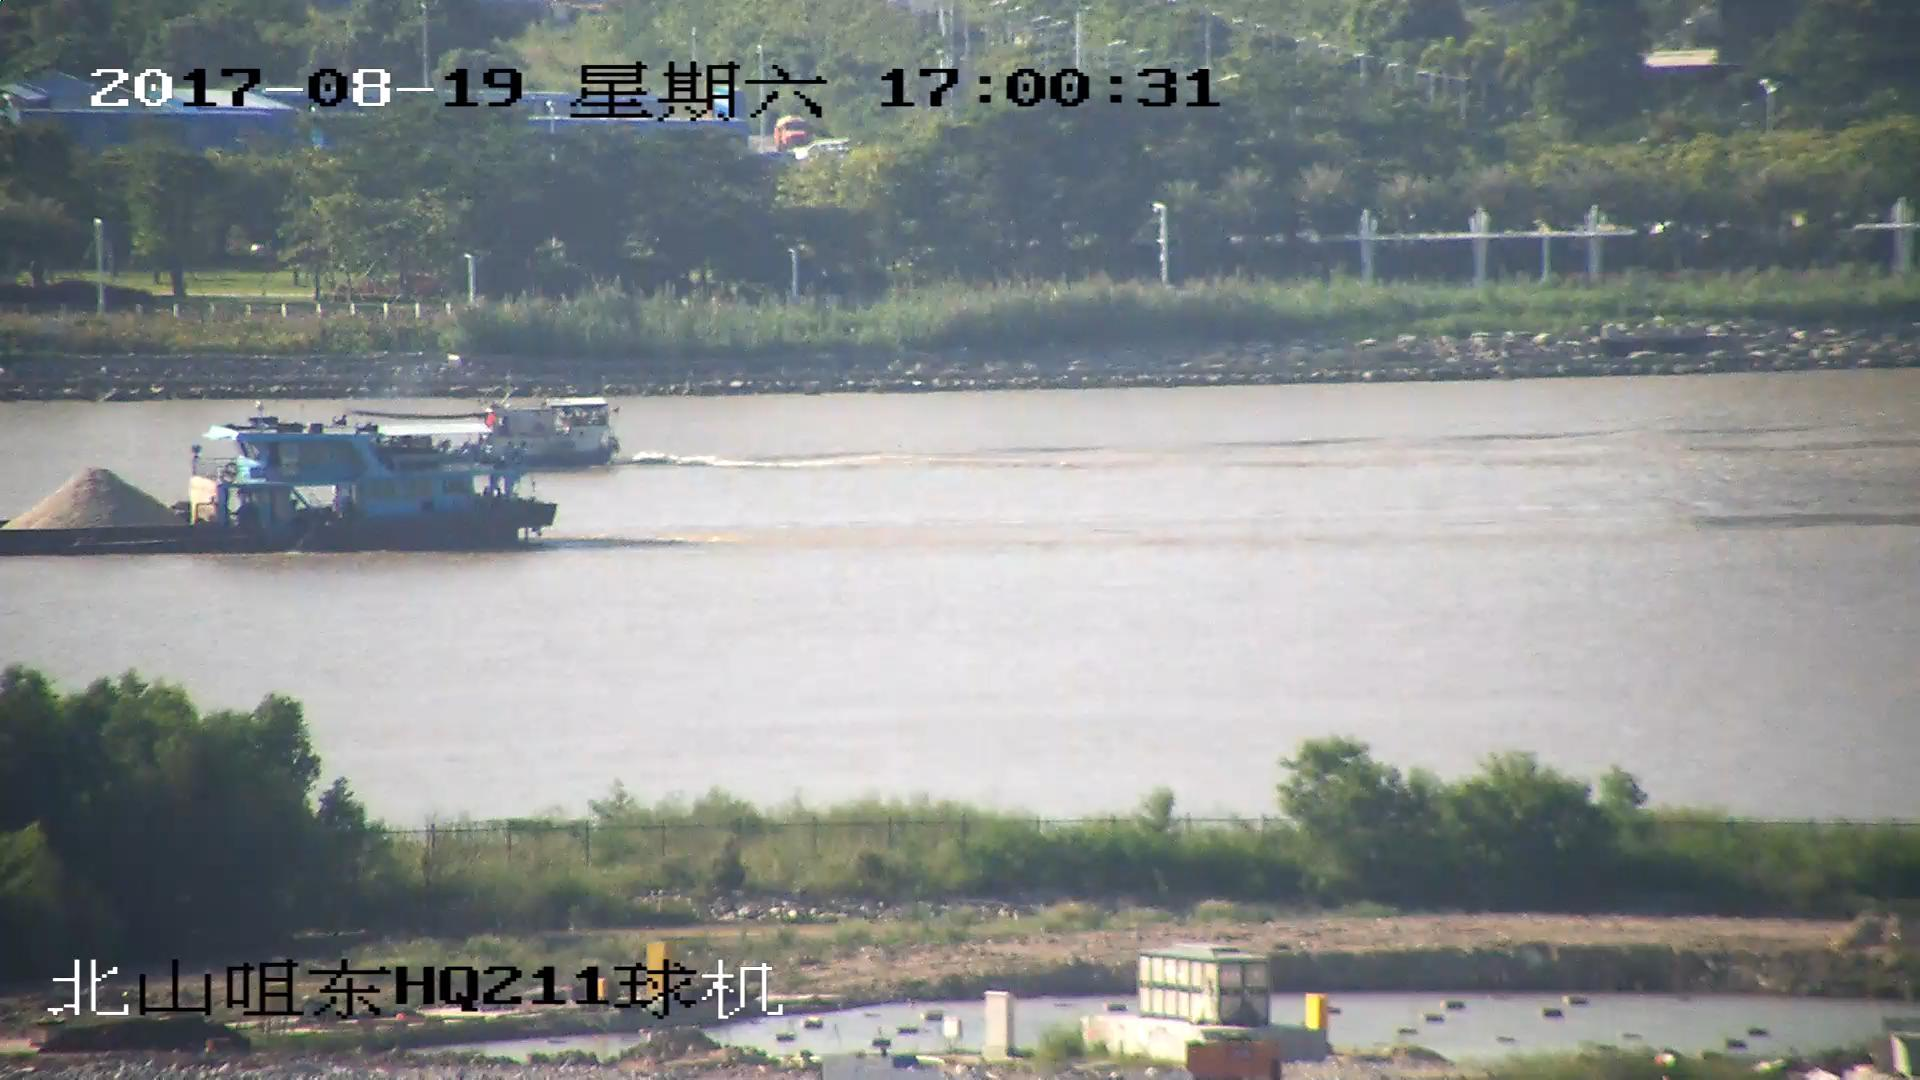Ship: (3, 410, 559, 555), (375, 401, 621, 477)
